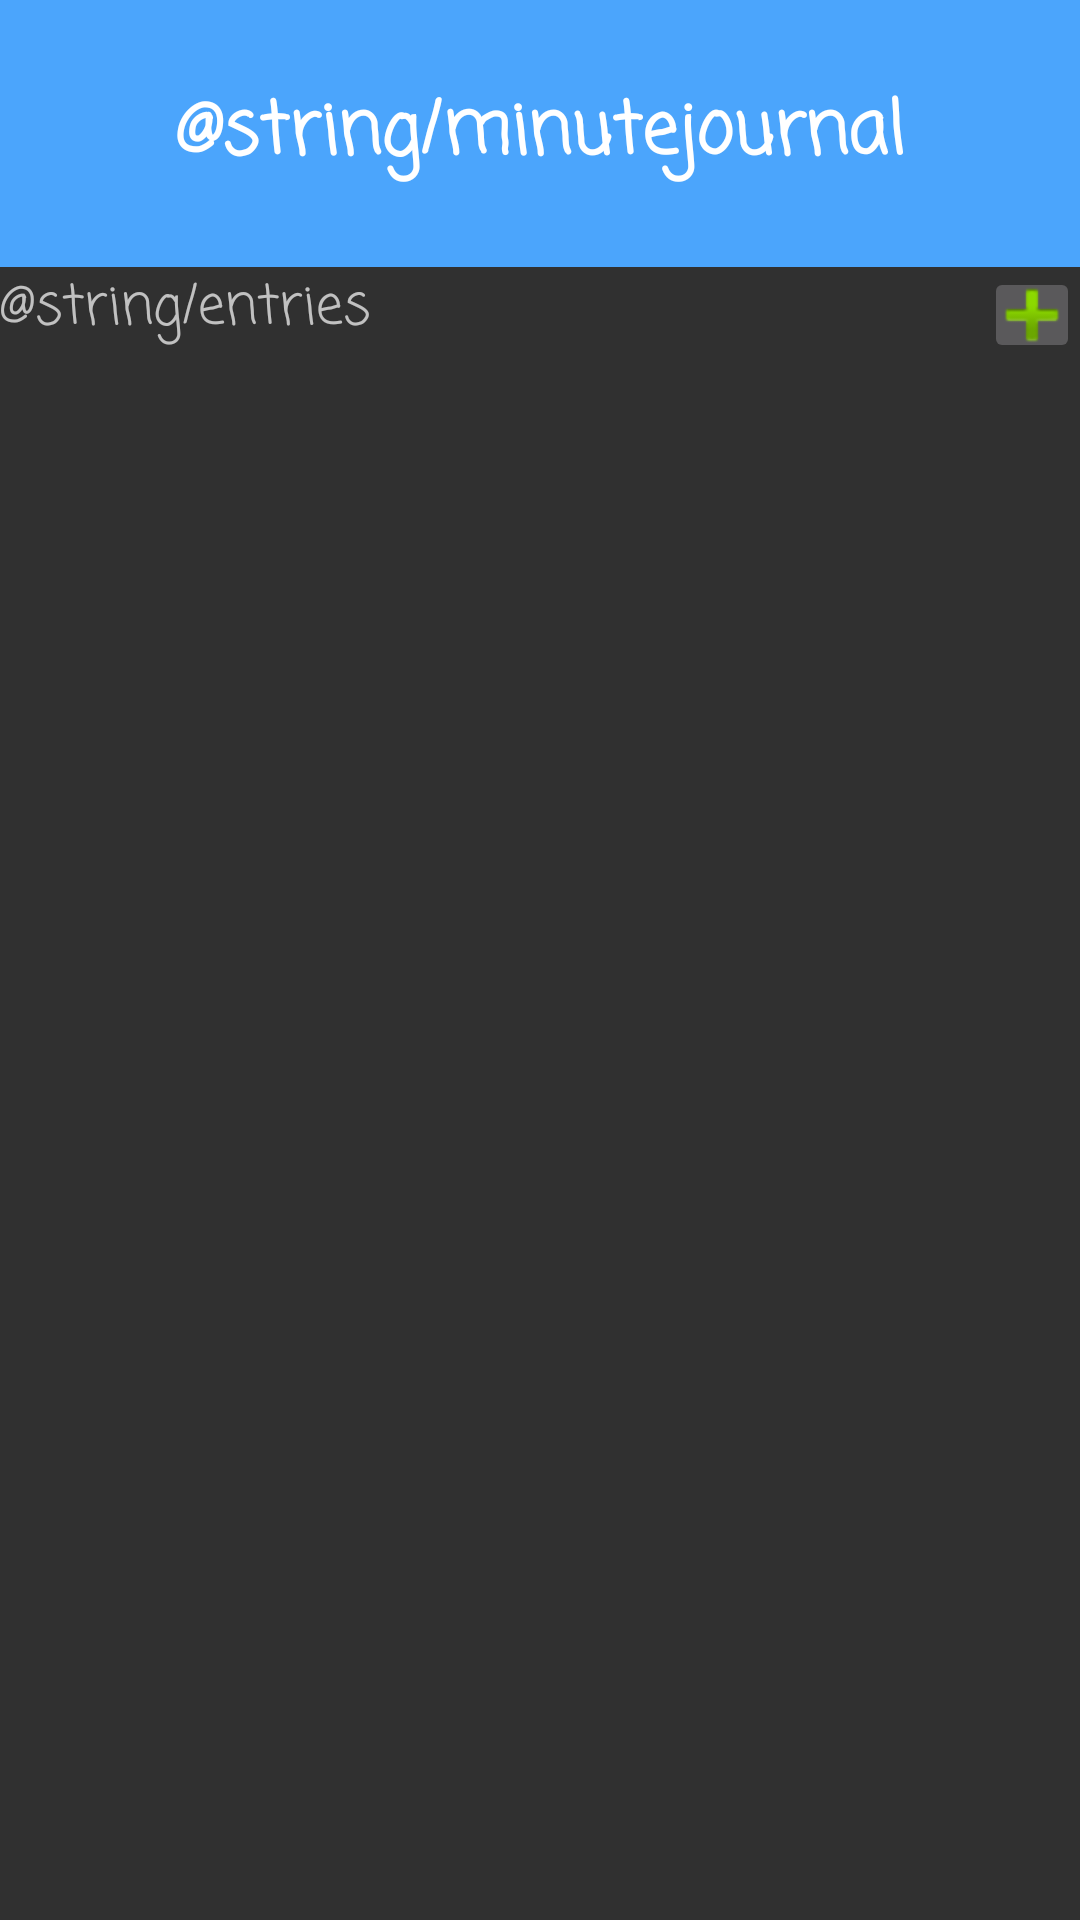

Screen size 1080×1920. Icon name, then its box in pixels as (x1, y1, x2, y2):
add: (996, 285, 1068, 345)
